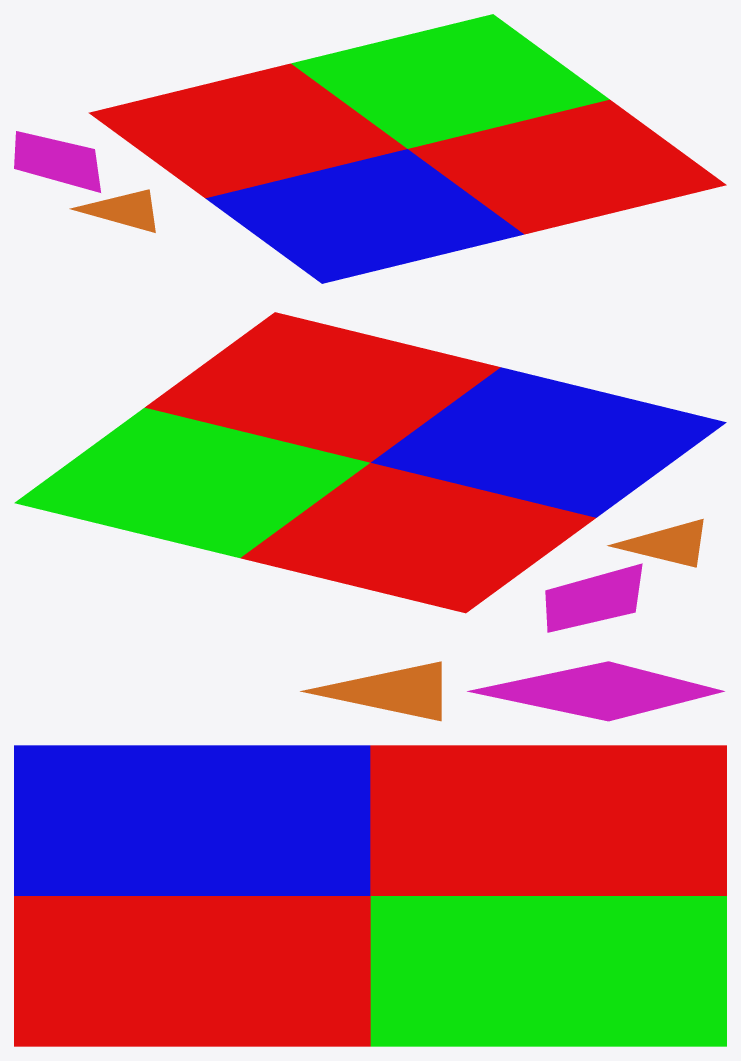
3 views of the same model, one above another, from view 1: azimuth 30°, elevation 25°; view 2: azimuth 150°, elevation 25°; view 3: azimuth 270°, elevation 25° (orthographic). The views are drawn at different scales.
Visible parts, largest first — view 1: plane-col, twovert-col, vert-col; view 2: plane-col, twovert-col, vert-col; view 3: plane-col, twovert-col, vert-col.
Part boxes in pixels (x1,y1,x2,y2): plane-col: (88, 14, 726, 283); twovert-col: (14, 131, 100, 192); vert-col: (69, 189, 155, 232); plane-col: (14, 312, 726, 613); twovert-col: (545, 563, 642, 632); vert-col: (607, 518, 703, 567); plane-col: (14, 745, 726, 1046); twovert-col: (467, 661, 724, 721); vert-col: (300, 661, 441, 721).
Size of what is drawn, in the model's own units: 25.59 by 0 by 20.
